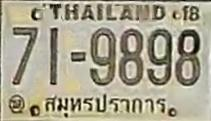1: (48, 28, 57, 84)
7: (12, 26, 38, 84)
8: (175, 28, 200, 86), (118, 28, 143, 85)
9: (89, 27, 115, 85), (147, 28, 172, 85)
SPK: (40, 90, 169, 118)
